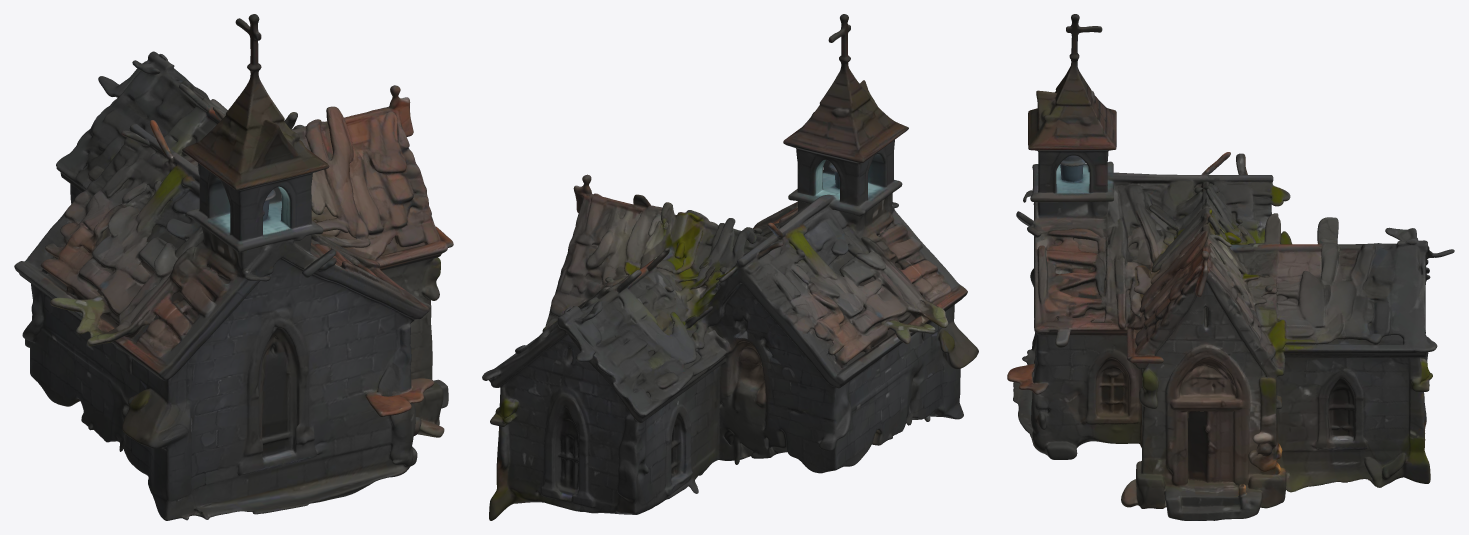
File: church.glb
3 views of the same model, side by side, from view 1: azimuth 30°, elevation 25°; view 2: azimuth 150°, elevation 25°; view 3: azimuth 270°, elevation 25° (orthographic). The views are drawn at different scales.
Parts seen in each view (by area): view 1: tripo_node_be1859b4-4f3c-4fda-bea0-9045247b3bbf; view 2: tripo_node_be1859b4-4f3c-4fda-bea0-9045247b3bbf; view 3: tripo_node_be1859b4-4f3c-4fda-bea0-9045247b3bbf.
Boxes of the visible parts, left/top/right/bottom form: tripo_node_be1859b4-4f3c-4fda-bea0-9045247b3bbf: left=14, top=14, right=453, bottom=520; tripo_node_be1859b4-4f3c-4fda-bea0-9045247b3bbf: left=482, top=14, right=978, bottom=520; tripo_node_be1859b4-4f3c-4fda-bea0-9045247b3bbf: left=1007, top=14, right=1454, bottom=520.
Size of the model in its own units: 0.8365 by 1 by 0.9959.
Materials: 1 (1 with a texture image).
